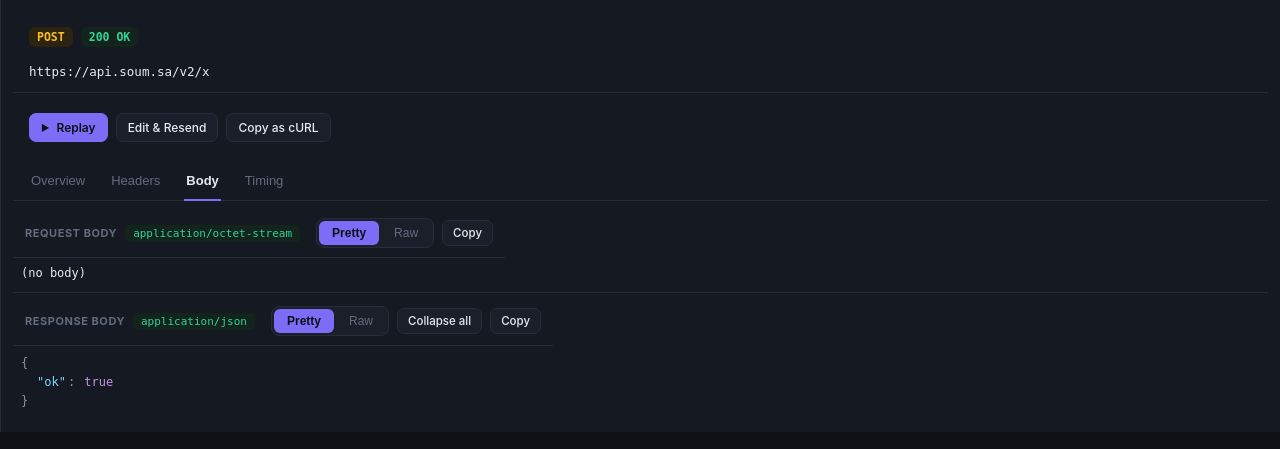
DetailPane Body tab request body › shows a binary-body note for a request with no decoded body but a nonzero size
The width and height of the screenshot is (1280, 449).
Expected: the text "REQUEST BODY" is shown, [25,226,117,240]
Click the button "Raw" in the row of "application/octet-stream".
click(406, 233)  # box [381,221,431,245]
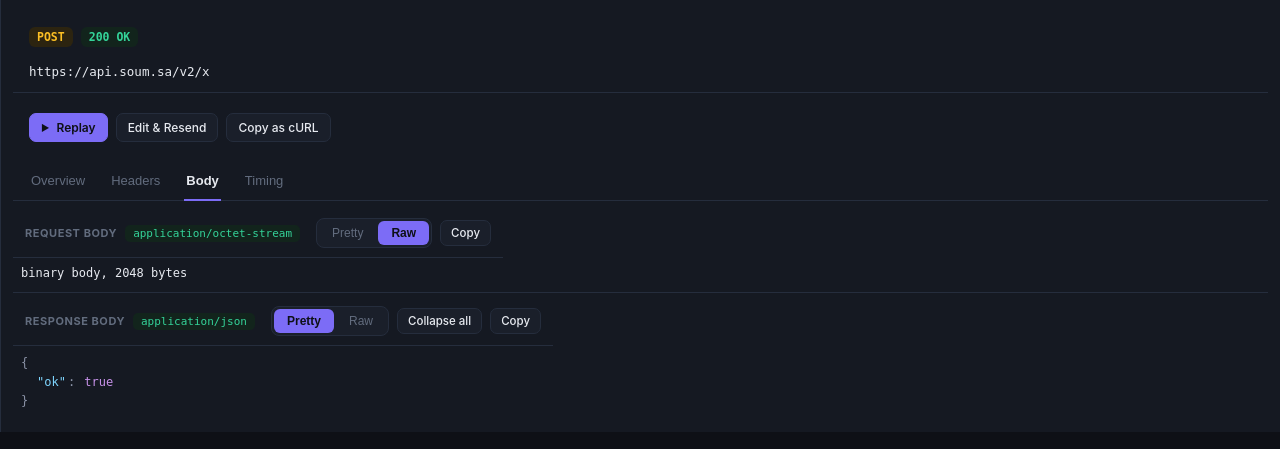
Result: the text "binary body, 2048 bytes" is shown at [21,266,187,280]
